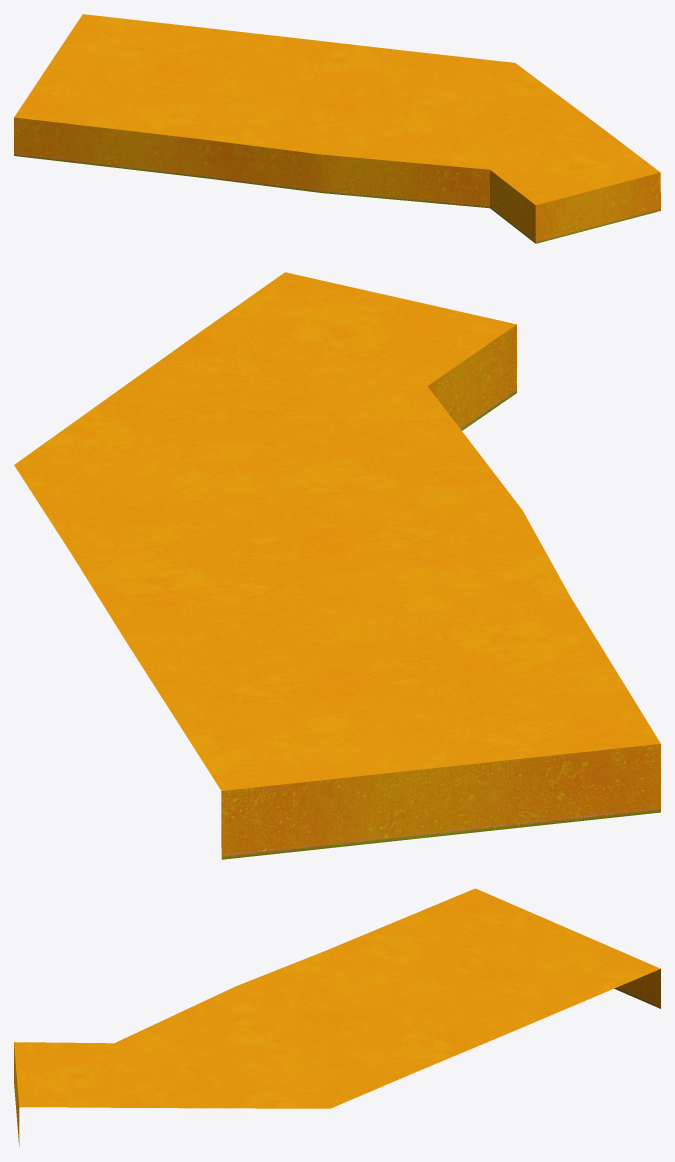
Rendered from FacilityPlatform_04_SM_Low.fbx.
The picture shows the model from 3 angles, top to bottom: view 1: azimuth 30°, elevation 25°; view 2: azimuth 150°, elevation 25°; view 3: azimuth 270°, elevation 25°; orthographic projection. The views are drawn at different scales.
Visible parts, largest first — view 1: facility_platform_04_geo; view 2: facility_platform_04_geo; view 3: facility_platform_04_geo.
Part boxes in pixels (<box>): facility_platform_04_geo: <box>14,14,660,243</box>; facility_platform_04_geo: <box>14,272,660,859</box>; facility_platform_04_geo: <box>14,888,660,1145</box>.
Bounding box in the file's own units: 1168 × 99.5 × 1449.
2 materials, 2 textured.
